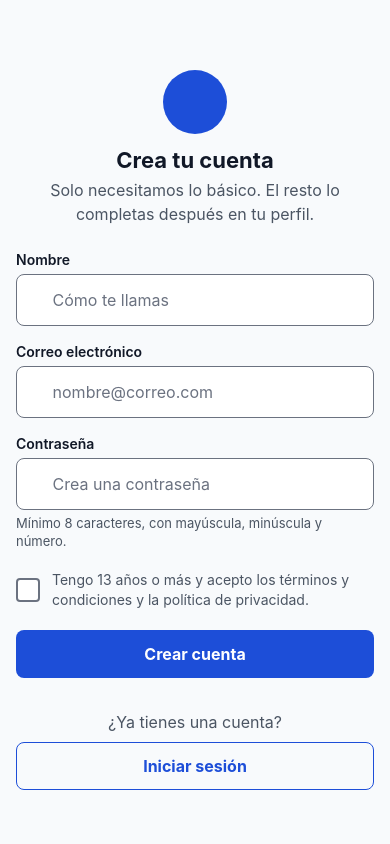
it: RegisterScreen › muestra los errores al enviar el formulario vacío
Click the button "Crear cuenta" at [195, 654], box [16,630,374,678]
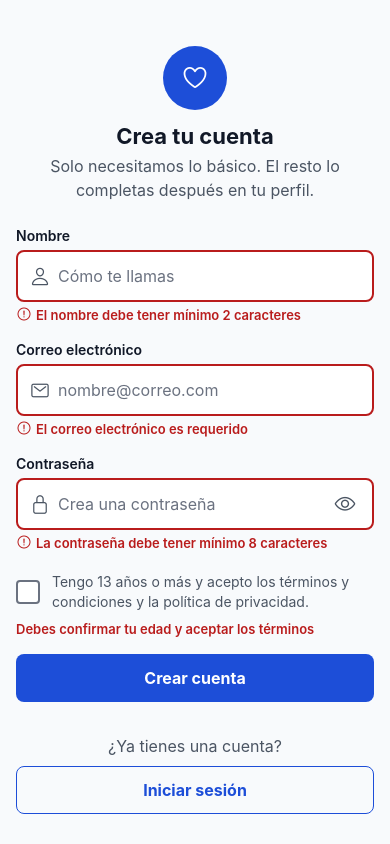
Now the text "El nombre debe tener mínimo 2 caracteres" is shown, box [36,306,301,324]
Now the text "El correo electrónico es requerido" is shown, box [36,420,248,438]
Now the text "La contraseña debe tener mínimo 8 caracteres" is shown, box [36,534,327,552]
